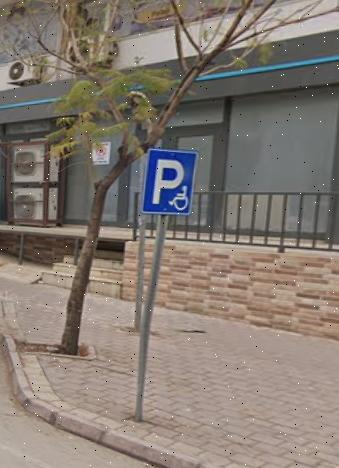disabledpark: (146, 145, 193, 216)
